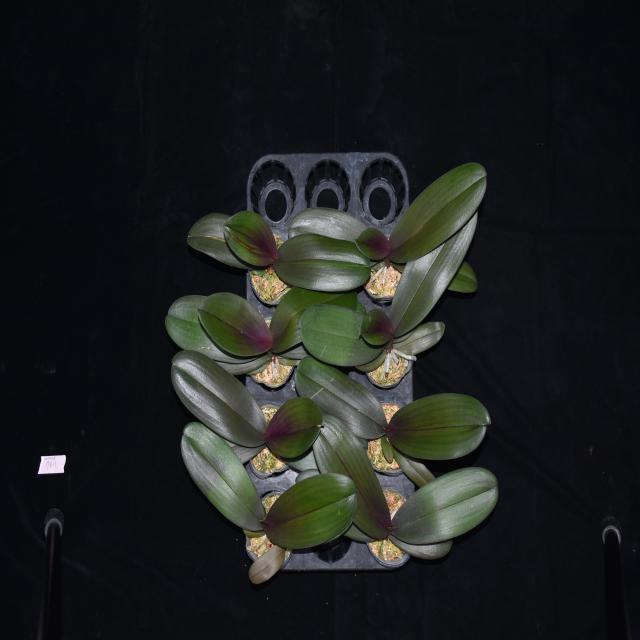leaf: (390, 208, 478, 336), (390, 159, 490, 265), (309, 414, 391, 543), (176, 419, 264, 539), (170, 344, 266, 448), (162, 290, 268, 370), (263, 468, 359, 554), (391, 466, 499, 542), (291, 355, 388, 437), (388, 392, 493, 458), (299, 306, 386, 372), (270, 278, 356, 341), (274, 231, 368, 285), (196, 294, 271, 356), (265, 392, 325, 462), (188, 199, 244, 270), (286, 206, 368, 247), (225, 204, 278, 264), (391, 316, 446, 359), (387, 530, 458, 562), (392, 447, 436, 487), (349, 223, 390, 265), (250, 540, 286, 584), (357, 308, 393, 345), (445, 262, 483, 296), (379, 428, 397, 466)
